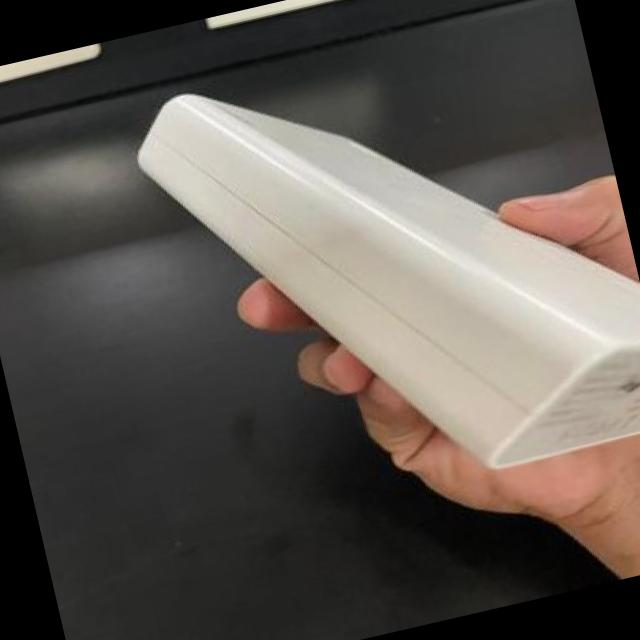portable-charger: (47, 0, 640, 578)
